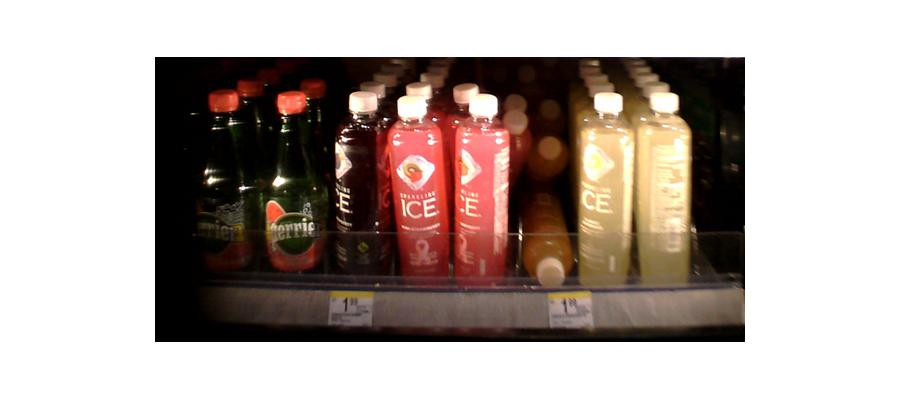bottle: (261, 90, 325, 282), (387, 89, 451, 281), (577, 90, 638, 279), (452, 92, 512, 283), (329, 94, 388, 280), (641, 91, 695, 282), (199, 101, 256, 274), (518, 118, 574, 282)
